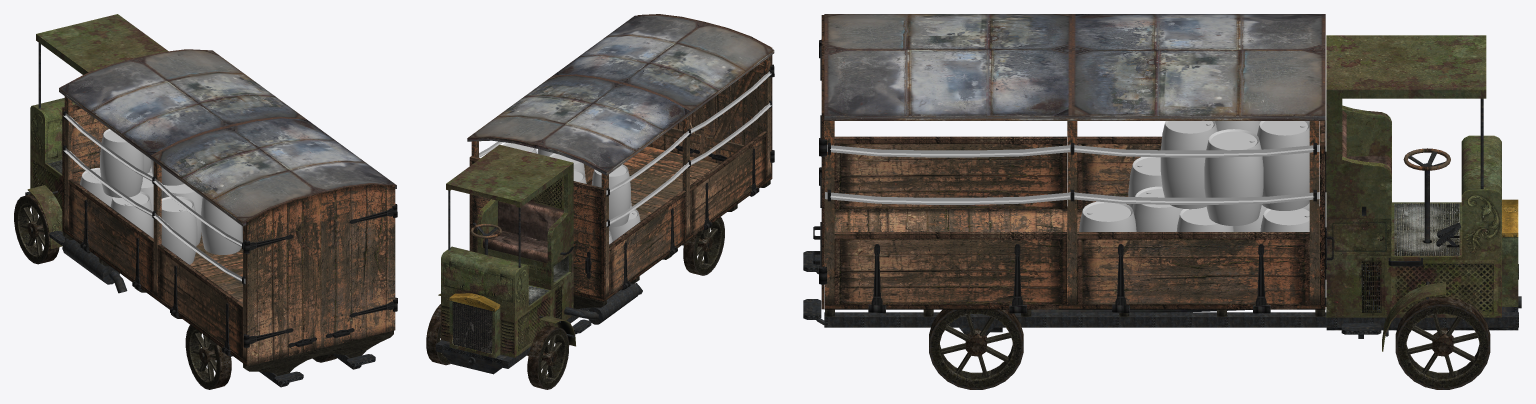
The model's file is truck_backfire.DAE.
3 views of the same model, side by side, from view 1: azimuth 30°, elevation 25°; view 2: azimuth 150°, elevation 25°; view 3: azimuth 270°, elevation 25° (orthographic). The views are drawn at different scales.
Visible parts, largest first — view 1: Box087, Box088, Box085, barrel014, Object097, Box089, Box086, Object079, Object080, Object096; view 2: Box088, Box087, Box085, Box089, Object080, barrel014, Box086, Object079, Object097, Object096; view 3: Box087, Box088, Box085, barrel014, Box089, Box086, Object080, Object079, Object097, Object096.
Boxes of the visible parts, bbox=[...] form: Box087: bbox=[62, 96, 395, 366]; Box088: bbox=[59, 49, 396, 226]; Box085: bbox=[27, 14, 168, 248]; barrel014: bbox=[80, 129, 242, 264]; Object097: bbox=[63, 111, 397, 356]; Box089: bbox=[25, 43, 375, 387]; Box086: bbox=[63, 113, 245, 283]; Object079: bbox=[185, 325, 336, 389]; Object080: bbox=[14, 194, 59, 264]; Object096: bbox=[28, 227, 393, 375]; Box088: bbox=[467, 14, 774, 175]; Box087: bbox=[469, 14, 772, 301]; Box085: bbox=[438, 144, 575, 358]; Box089: bbox=[436, 190, 683, 374]; Object080: bbox=[426, 304, 569, 389]; barrel014: bbox=[503, 142, 640, 244]; Box086: bbox=[479, 71, 771, 226]; Object079: bbox=[683, 217, 724, 275]; Object097: bbox=[585, 64, 774, 290]; Object096: bbox=[527, 180, 770, 361]; Box087: bbox=[821, 15, 1450, 309]; Box088: bbox=[824, 14, 1325, 120]; Box085: bbox=[1326, 35, 1518, 351]; barrel014: bbox=[1079, 121, 1309, 231]; Box089: bbox=[803, 98, 1521, 338]; Box086: bbox=[825, 144, 1319, 204]; Object080: bbox=[1395, 297, 1490, 389]; Object079: bbox=[929, 309, 1023, 389]; Object097: bbox=[813, 39, 1422, 313]; Object096: bbox=[825, 309, 1447, 352].
Size of the model in its own units: 3.36 by 4.58 by 9.95.
